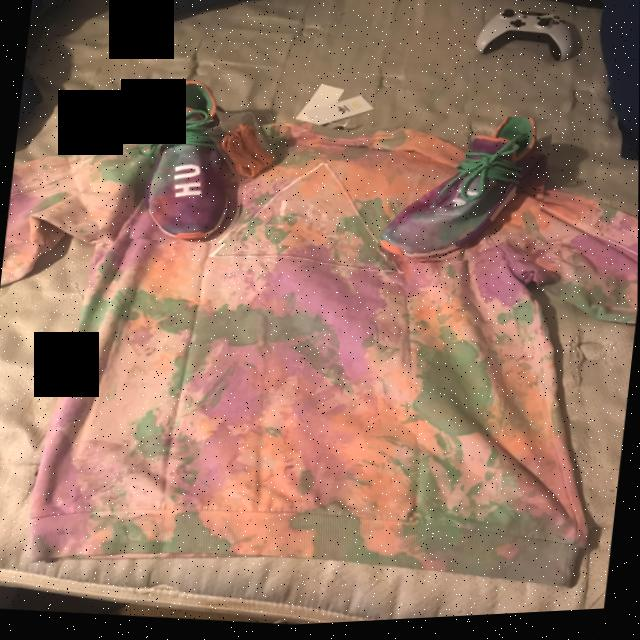shoe: (376, 108, 555, 282), (129, 73, 259, 251)
